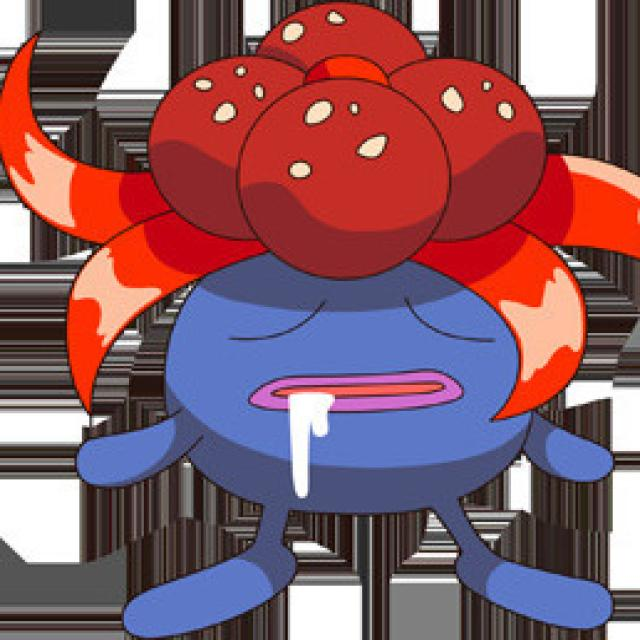Gloom: (124, 11, 596, 634)
